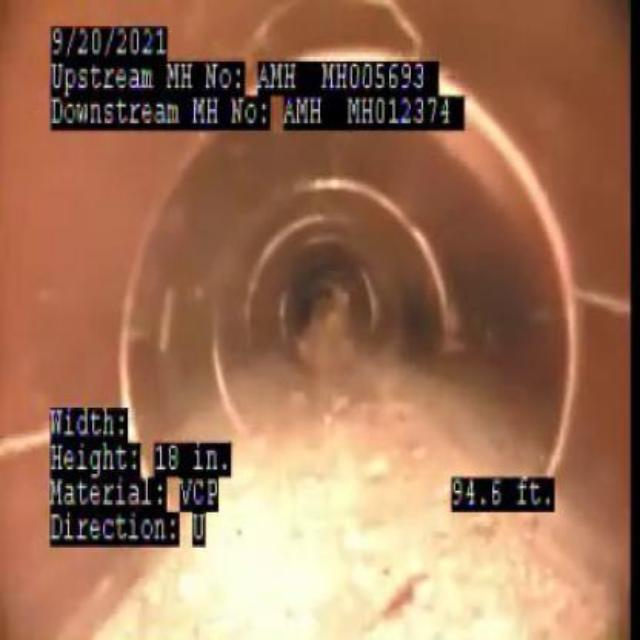Crack: (572, 272, 638, 329), (0, 409, 51, 477), (374, 0, 431, 52)
Joint offset: (488, 105, 572, 275)
